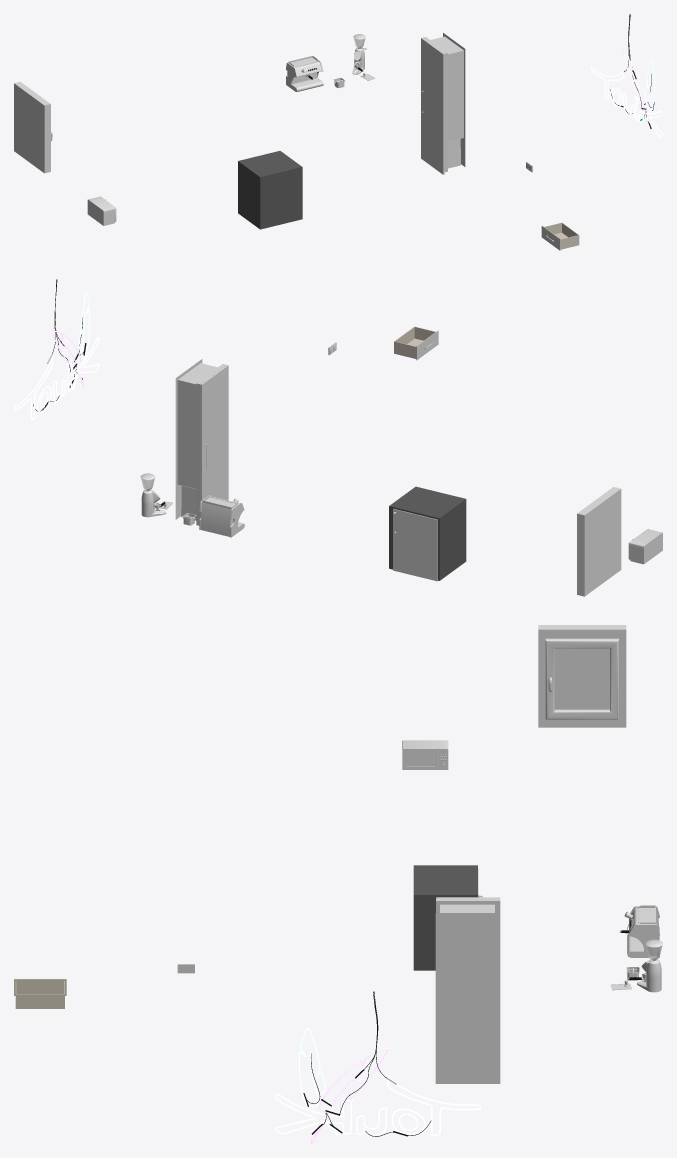
Rendered from kitchen_interactives.gltf.
3 renders of one model, top to bottom at view 1: azimuth 30°, elevation 25°; view 2: azimuth 150°, elevation 25°; view 3: azimuth 270°, elevation 25°, orthographic. The views are drawn at different scales.
Visible parts, largest first — view 1: cupboard, bake_interactive_doors, fridgeInside, window_bound, bake_express, bake_drawerFront, NurbsPath.001, bake_microvawe; view 2: fridgeInside, window_bound, bake_interactive_doors, cupboard, bake_shelfDoors, bake_express, bake_drawerFront, NurbsPath.001, bake_microvawe, bake_grinder; view 3: fridgeInside, window_bound, cupboard, bake_window, NurbsPath.001, bake_express, bake_drawerFront, bake_microvaweDoor, bake_grinder.
Boxes of the visible parts, x1,y1,x2,y2 form: cupboard: (238, 151, 302, 229); bake_interactive_doors: (421, 37, 444, 174); fridgeInside: (423, 33, 465, 172); window_bound: (14, 81, 50, 173); bake_express: (286, 55, 323, 91); bake_drawerFront: (541, 222, 579, 250); NurbsPath.001: (591, 67, 662, 137); bake_microvawe: (87, 196, 114, 225); fridgeInside: (175, 359, 226, 525); window_bound: (577, 487, 621, 596); bake_interactive_doors: (200, 365, 228, 518); cupboard: (389, 486, 466, 580); bake_shelfDoors: (393, 508, 437, 581); bake_express: (199, 495, 244, 537); bake_drawerFront: (394, 326, 438, 360); NurbsPath.001: (14, 336, 99, 420); bake_microvawe: (628, 529, 662, 564); bake_grinder: (140, 473, 166, 517); fridgeInside: (435, 898, 500, 1083); window_bound: (538, 625, 626, 727); cupboard: (413, 865, 477, 970); bake_window: (545, 638, 619, 719); NurbsPath.001: (275, 1077, 480, 1135); bake_express: (624, 905, 659, 957); bake_drawerFront: (14, 979, 66, 1008); bake_microvaweDoor: (402, 748, 438, 769); bake_grinder: (637, 939, 662, 992).
Size of the model in its own units: 8.39 by 2.11 by 6.17.
